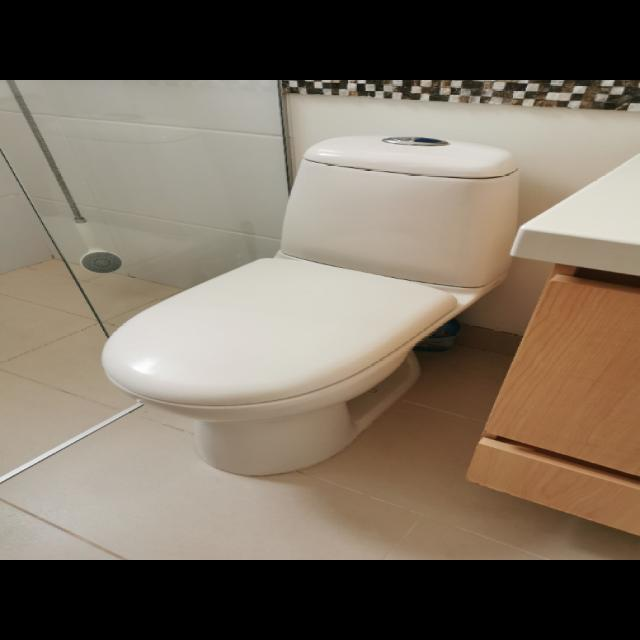toilet: (99, 134, 519, 477)
